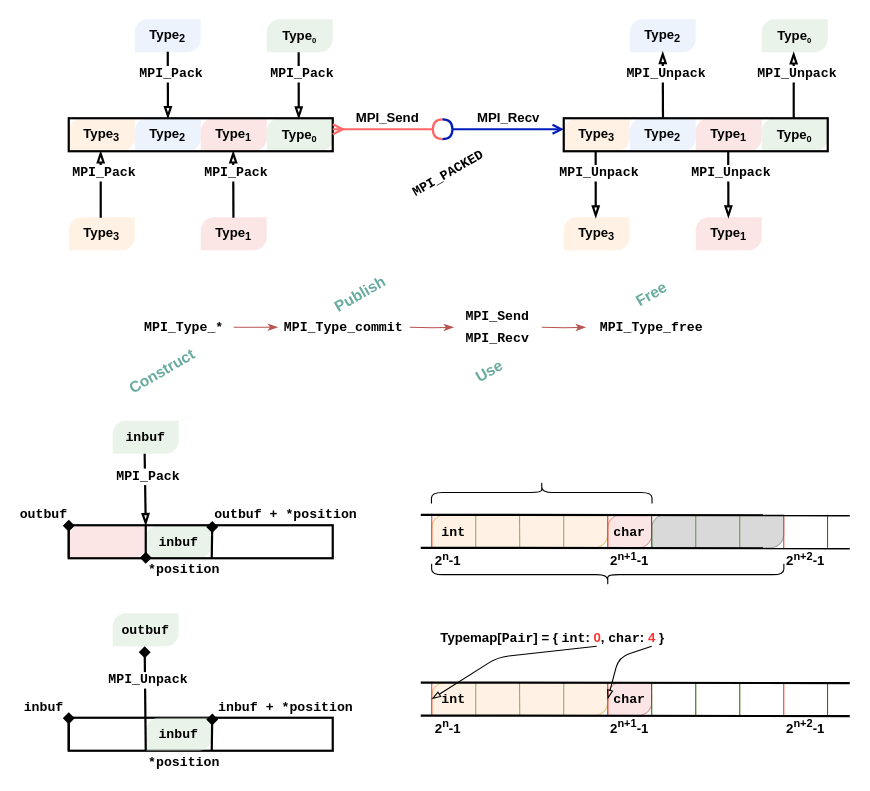
Some shapes in this 870 by 791 pixel diagram are drawn without their labels. Each missing label, with the centre of its shape:
"EXTENT[ Pair ] = 8" belongs at [607,574].
"Padding" belongs at [717,531].
"SIZE[ Pair ] = 5" belongs at [541,492].
